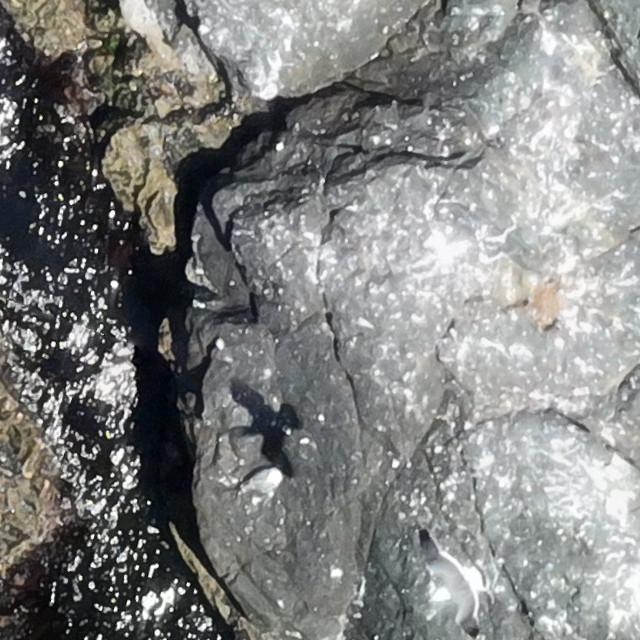F: (419, 536, 487, 630)
umineko: (240, 469, 280, 494)
